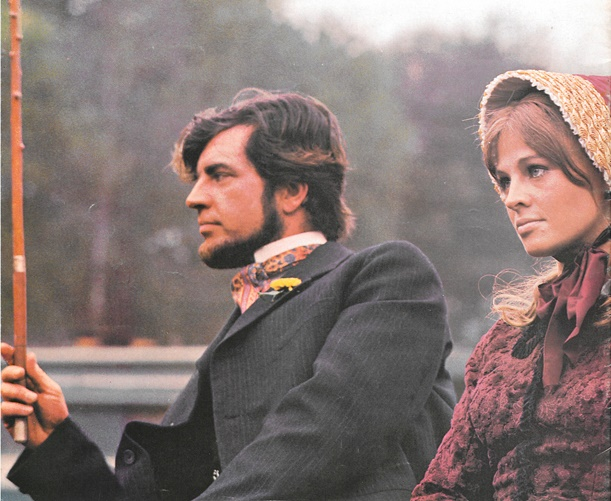without_mask: (496, 148, 570, 239), (191, 155, 260, 249)
